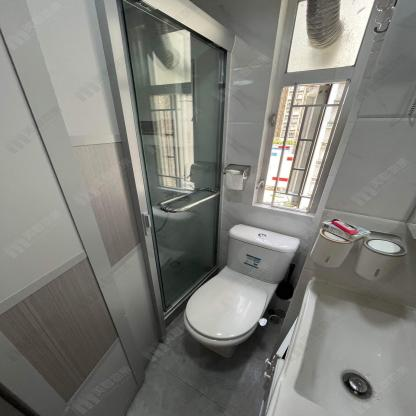Toilet: (183, 222, 301, 356)
Toilet Sink: (274, 280, 415, 416)
Water Cubicle: (96, 0, 235, 340)
